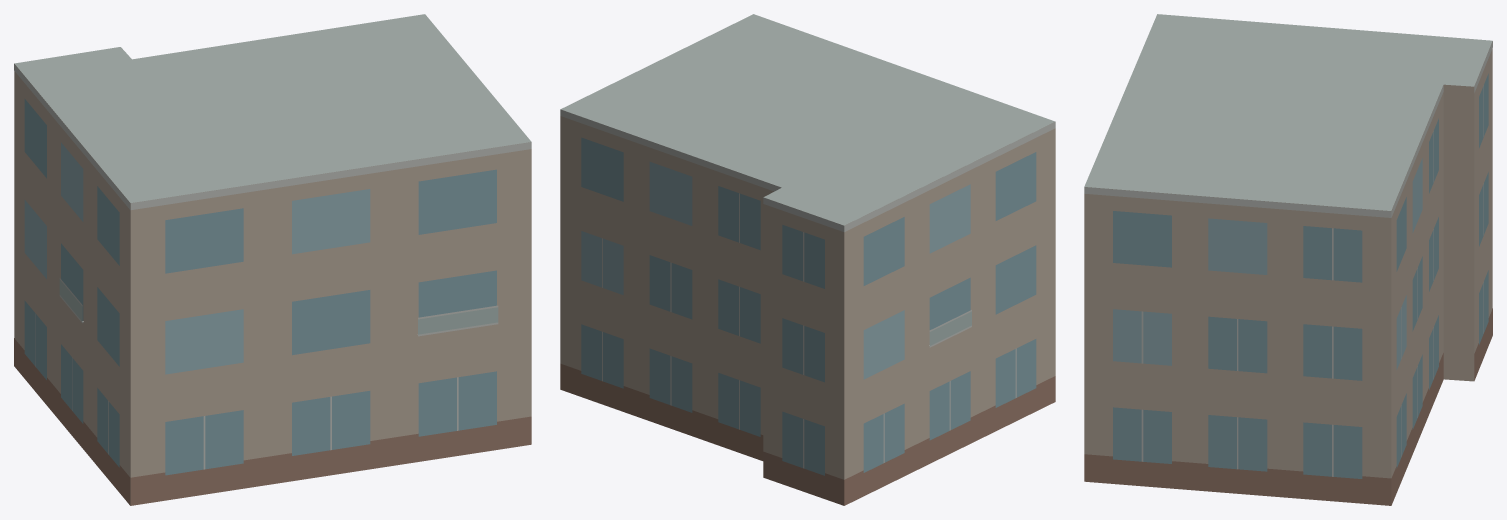
Rendered from survey-upis-32690087.glb.
3 renders of one model, left to right at view 1: azimuth 30°, elevation 25°; view 2: azimuth 150°, elevation 25°; view 3: azimuth 270°, elevation 25°, orthographic. The views are drawn at different scales.
Visible parts, largest first — view 1: survey-upis-32690087.tmp; view 2: survey-upis-32690087.tmp; view 3: survey-upis-32690087.tmp.
Boxes of the visible parts, left/top/right/bottom form: survey-upis-32690087.tmp: left=14, top=14, right=531, bottom=505; survey-upis-32690087.tmp: left=560, top=14, right=1055, bottom=505; survey-upis-32690087.tmp: left=1084, top=14, right=1492, bottom=505.
Bounding box in the file's own units: 14.92 × 10.4 × 13.07.
